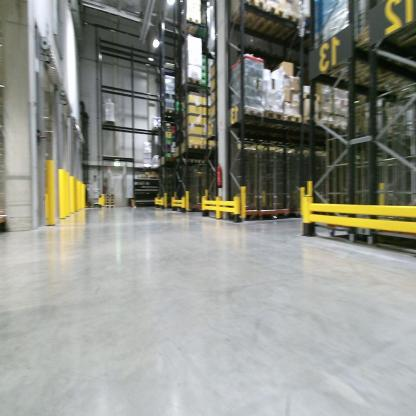pallets: (227, 0, 304, 53), (235, 108, 306, 131)
